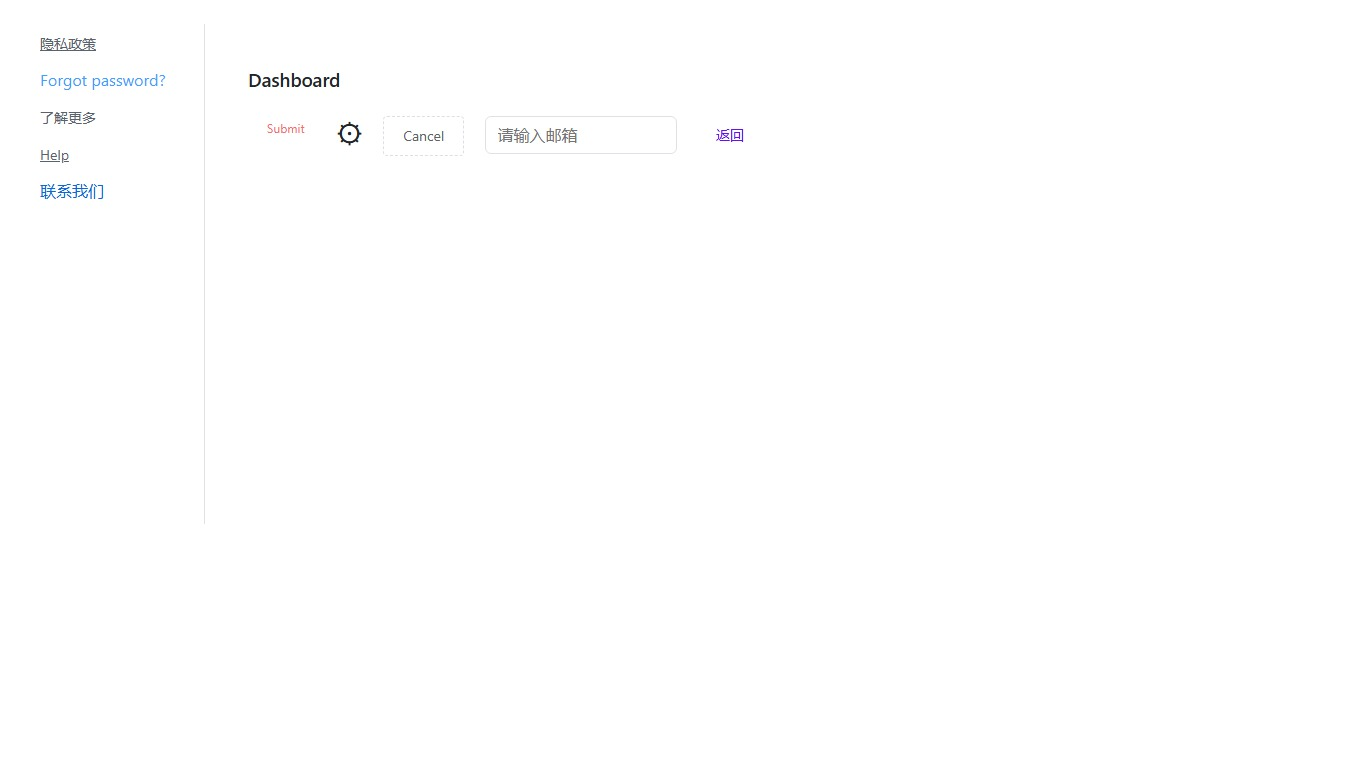button: (383, 116, 464, 156), (697, 116, 763, 154), (256, 117, 316, 139)
icon: (336, 116, 363, 148)
input: (485, 116, 677, 154)
link: (40, 69, 166, 90), (40, 180, 104, 201), (40, 34, 96, 53), (40, 108, 96, 127), (40, 145, 69, 164)
